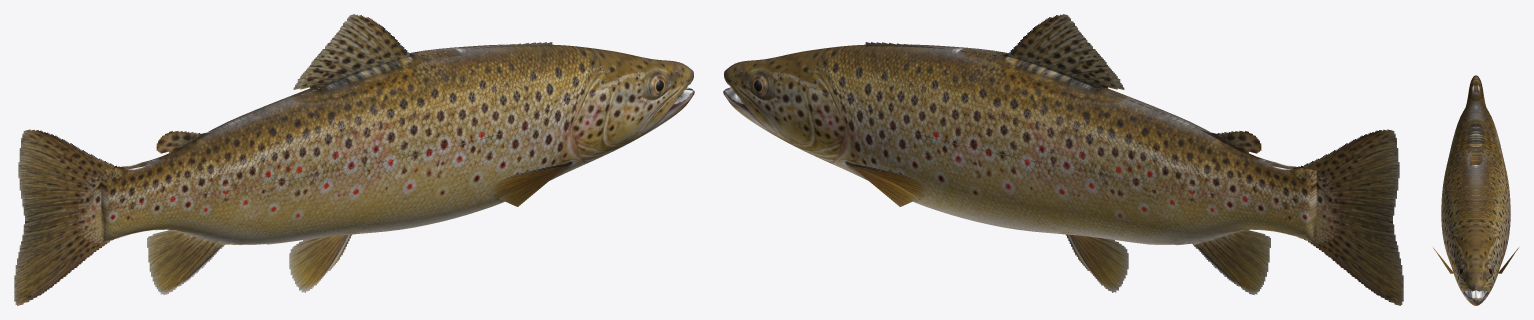
Rendered from brown_trout.glb.
3 views of the same model, side by side, from view 1: azimuth 30°, elevation 25°; view 2: azimuth 150°, elevation 25°; view 3: azimuth 270°, elevation 25° (orthographic). The views are drawn at different scales.
Visible parts, largest first — view 1: brown_trout_realistic.003; view 2: brown_trout_realistic.003; view 3: brown_trout_realistic.003.
Part boxes in pixels (left/top/right/bottom): brown_trout_realistic.003: left=14, top=14, right=694, bottom=305; brown_trout_realistic.003: left=723, top=14, right=1403, bottom=305; brown_trout_realistic.003: left=1433, top=75, right=1518, bottom=305.
Bounding box in the file's own units: 1 × 0.3751 × 0.1747.
3 materials, 3 textured.
